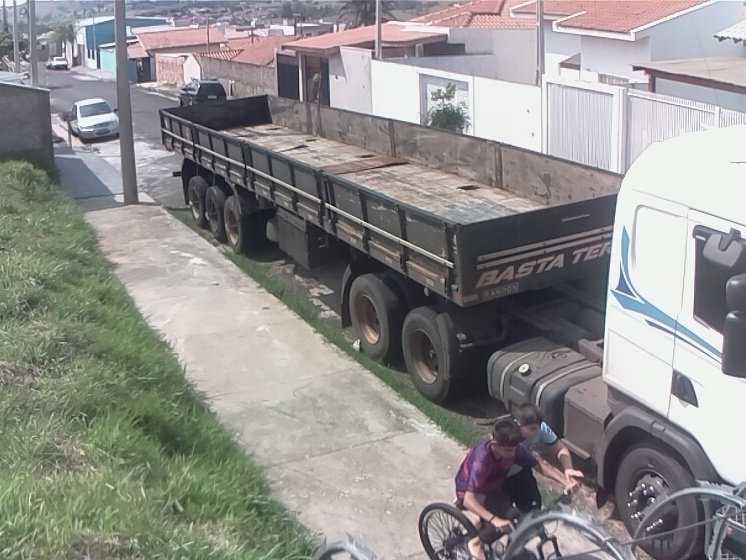person: (452, 419, 587, 560), (488, 399, 584, 489)
